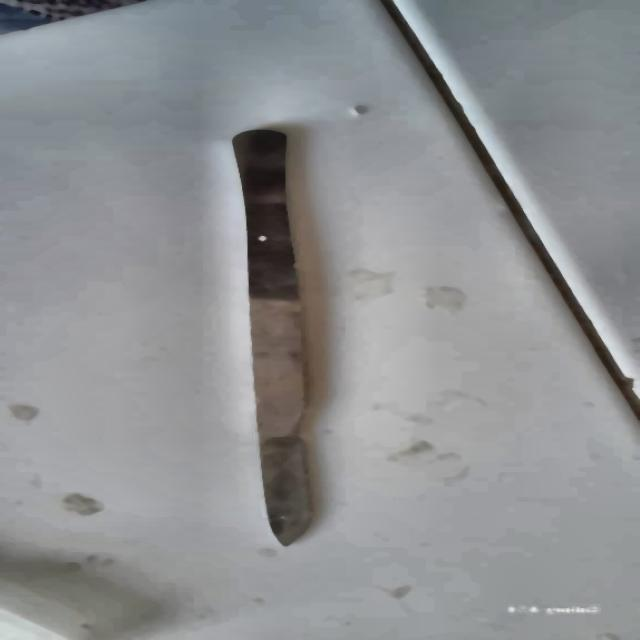Knife: (224, 121, 322, 548)
